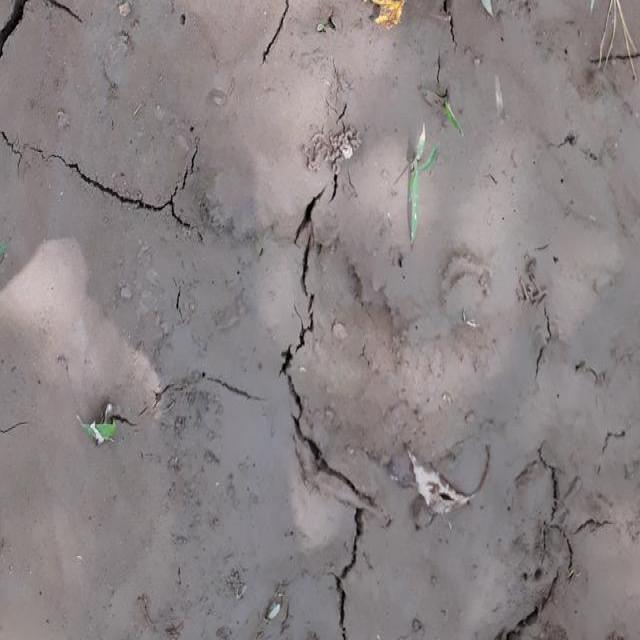weed: (403, 129, 446, 257)
